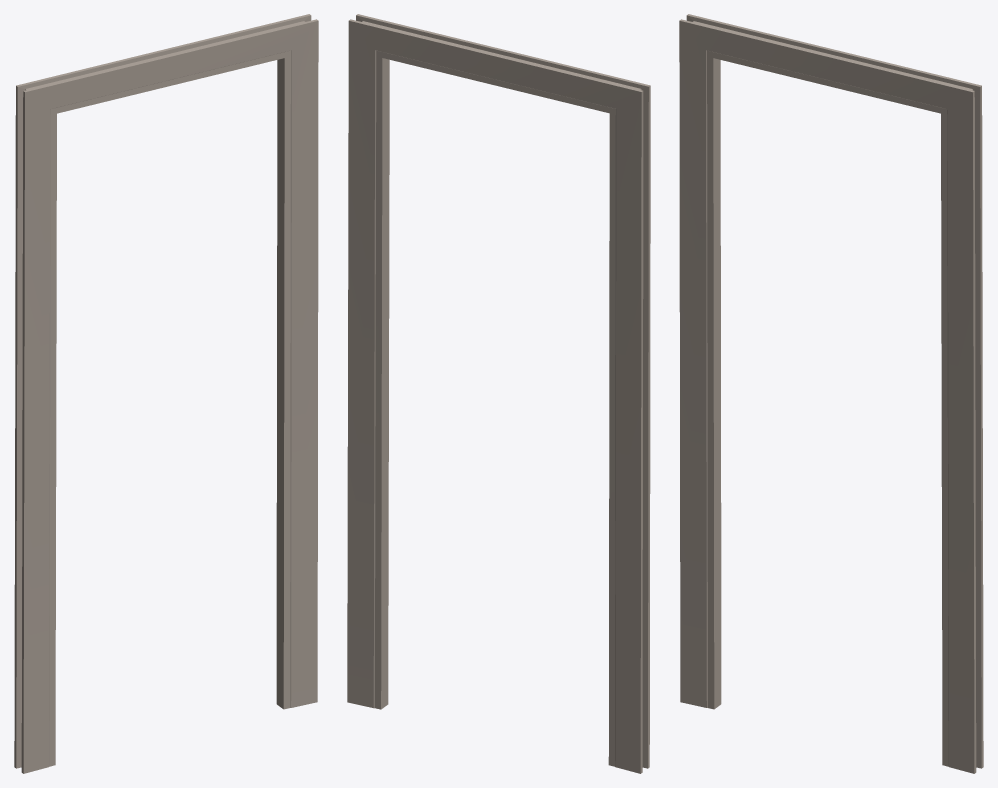
File: 31_SIDNEY_Frame.glb
The picture shows the model from 3 angles, left to right: view 1: azimuth 30°, elevation 25°; view 2: azimuth 150°, elevation 25°; view 3: azimuth 330°, elevation 25°; orthographic projection.
Visible parts, largest first — view 1: 31_SIDNEY_Frame; view 2: 31_SIDNEY_Frame; view 3: 31_SIDNEY_Frame.
Boxes of the visible parts, x1=… form: 31_SIDNEY_Frame: x1=14, y1=14, x2=318, y2=773; 31_SIDNEY_Frame: x1=347, y1=14, x2=650, y2=773; 31_SIDNEY_Frame: x1=679, y1=14, x2=983, y2=773.
Bounding box in the file's own units: 1.04 × 2.3 × 0.0632.
